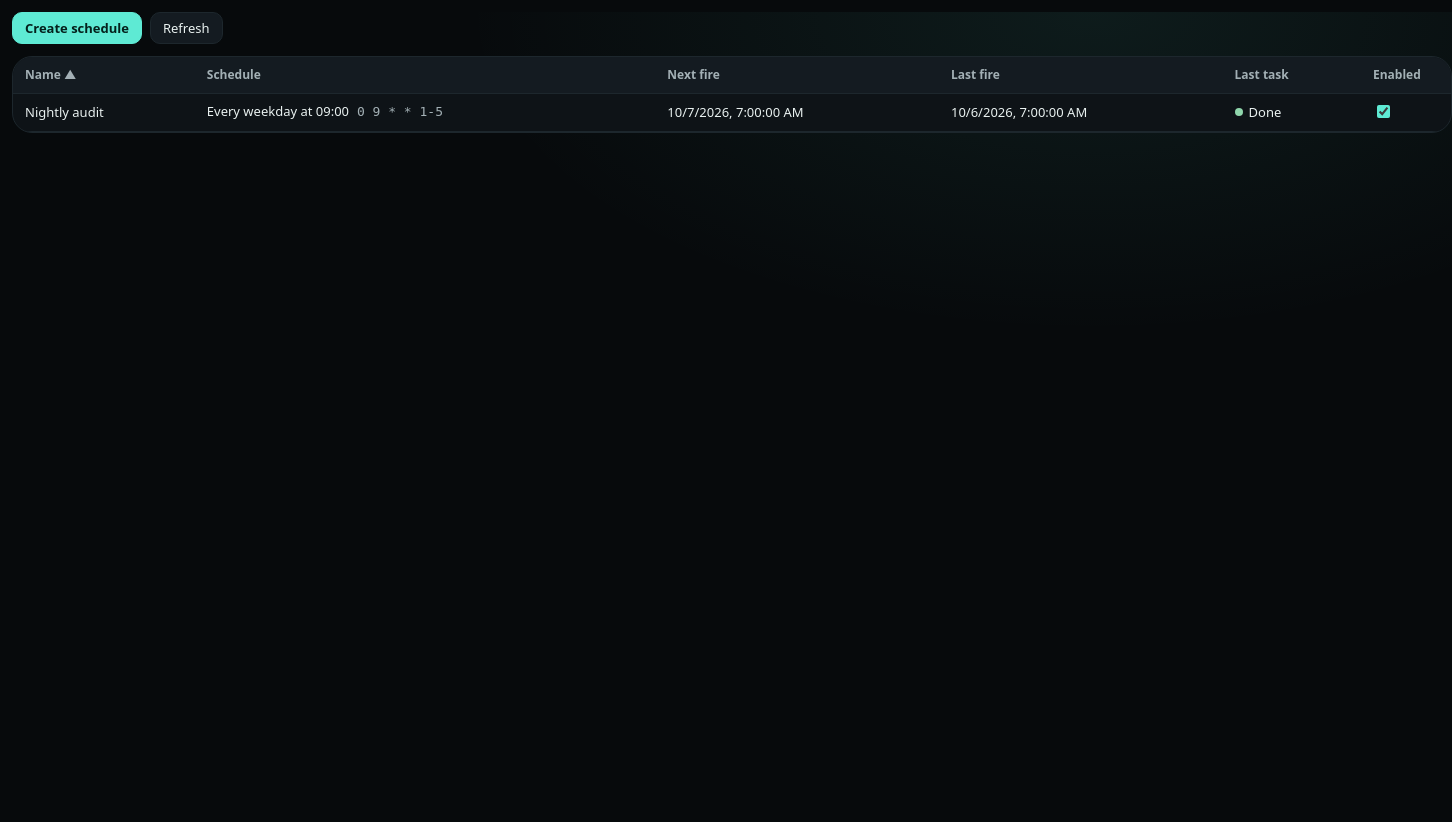
it: Schedules screen › shows the details panel with template and task history
Step 1. Click the row "Nightly audit" → point(732, 112), box [13, 93, 1451, 131]
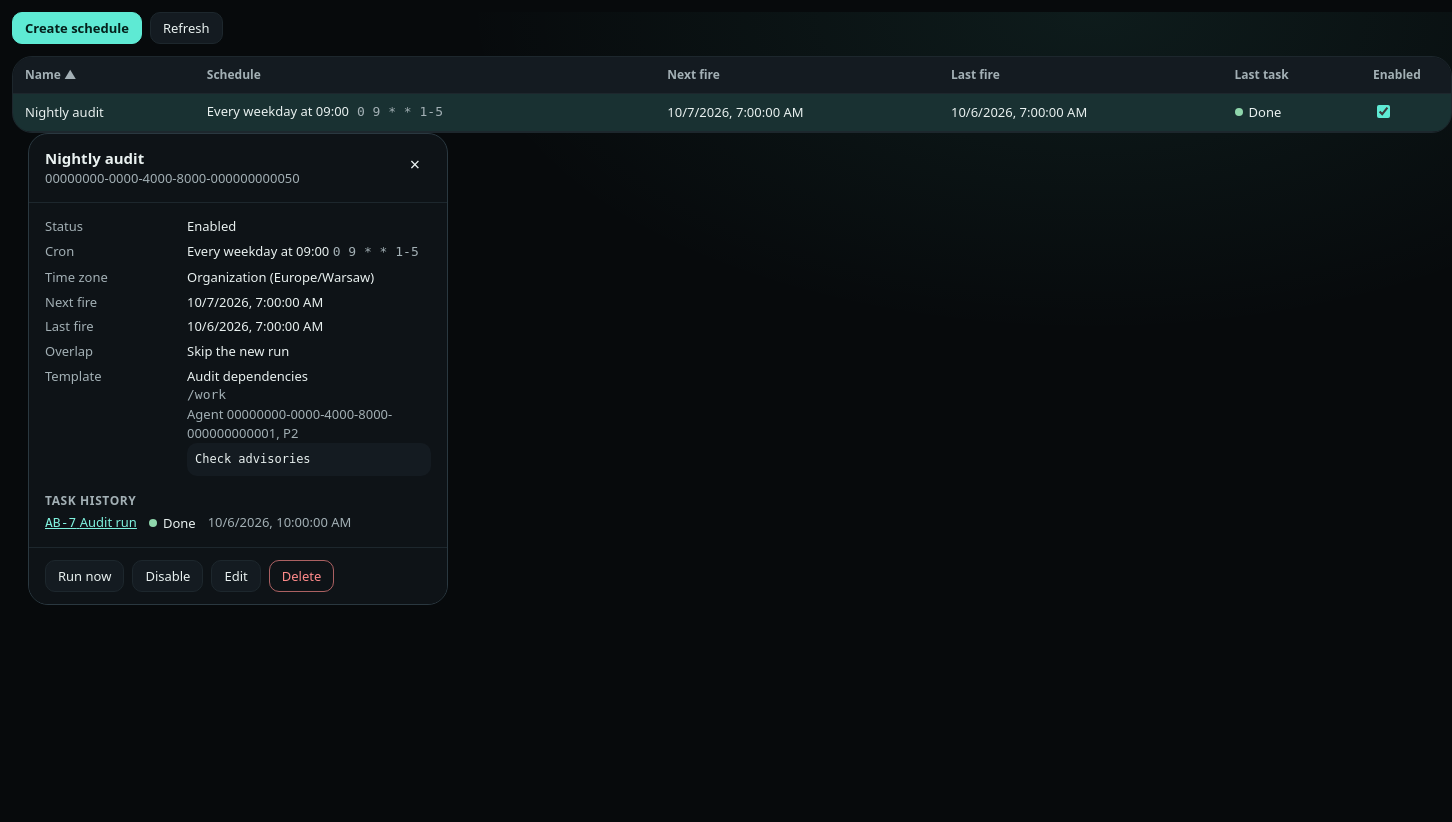
expect the text "Check advisories" is shown: met, box [187, 442, 431, 476]
expect the text "Organization (Europe/Warsaw)" is shown: met, box [187, 268, 374, 286]
